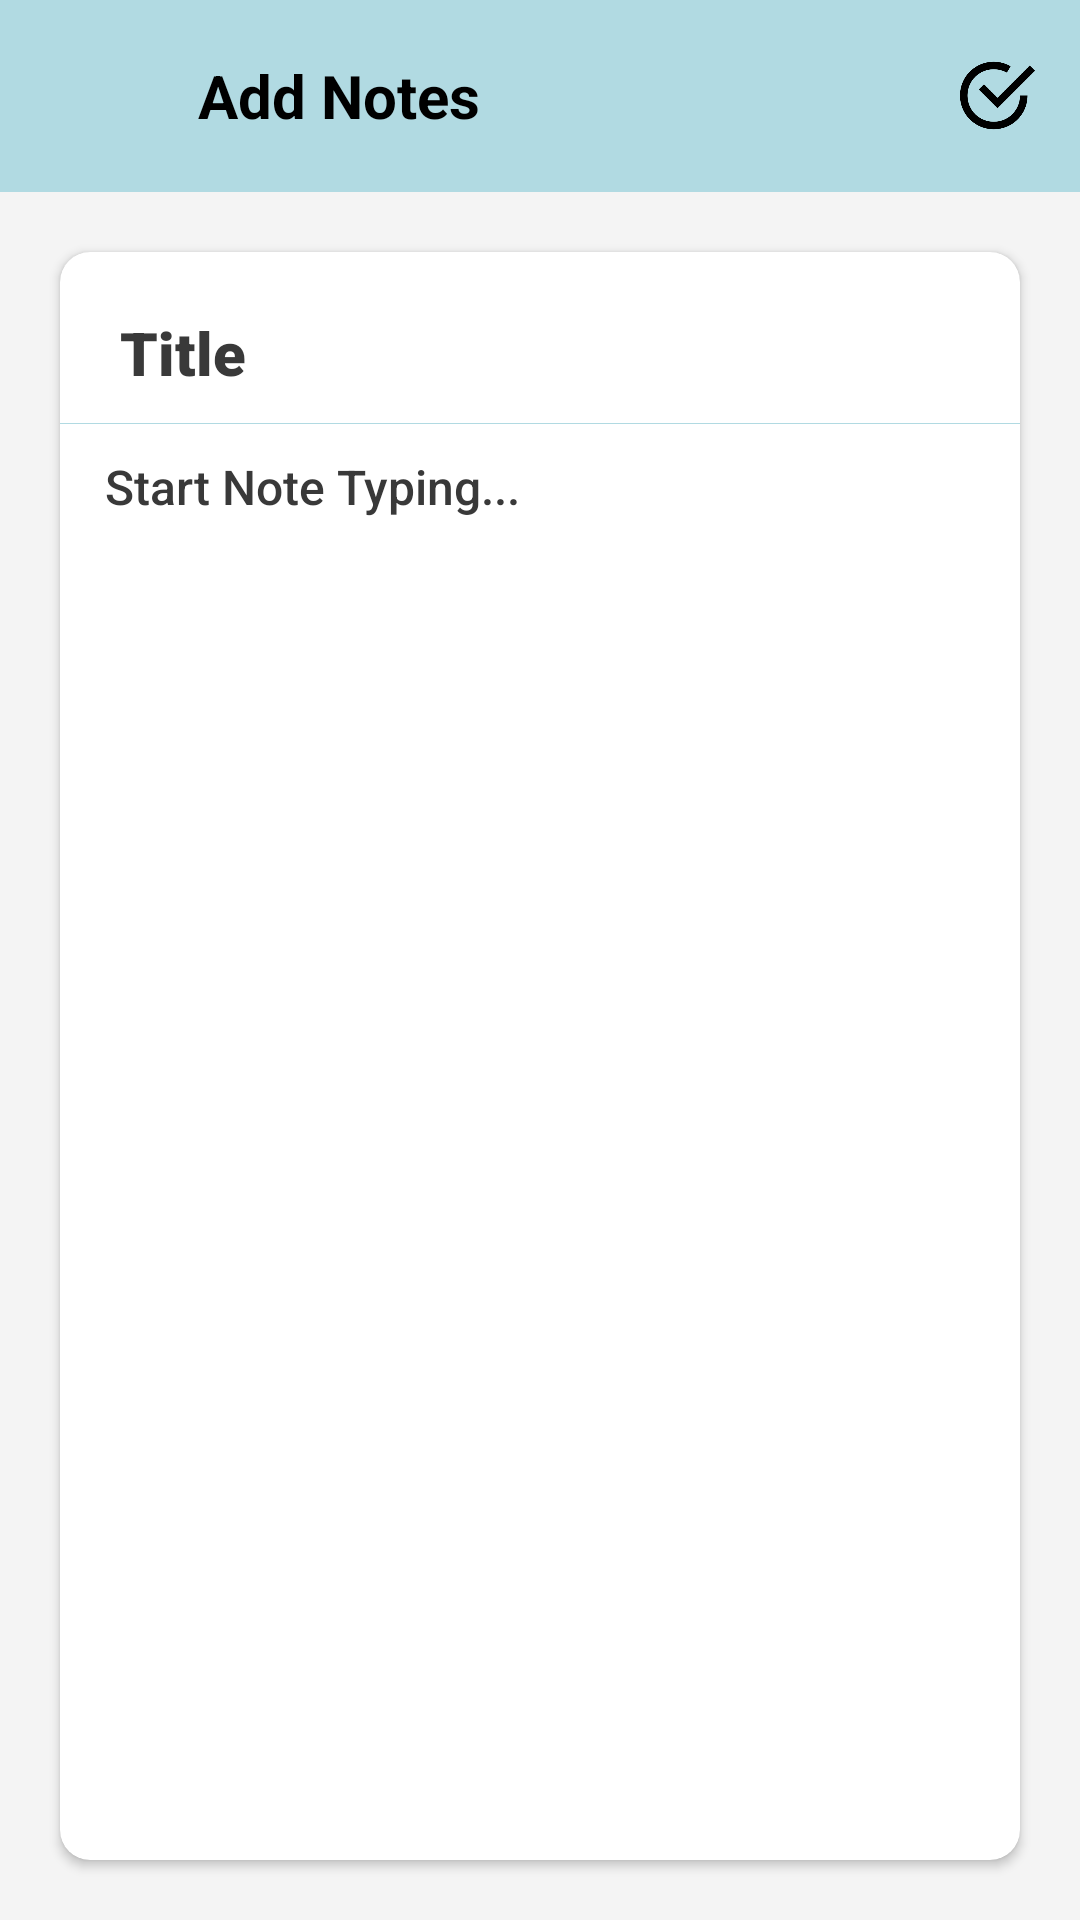

Screen size 1080 × 1920. Icon name, then its box in pixels as (x1, y1, x2, y2):
right: (960, 62, 1035, 129)
